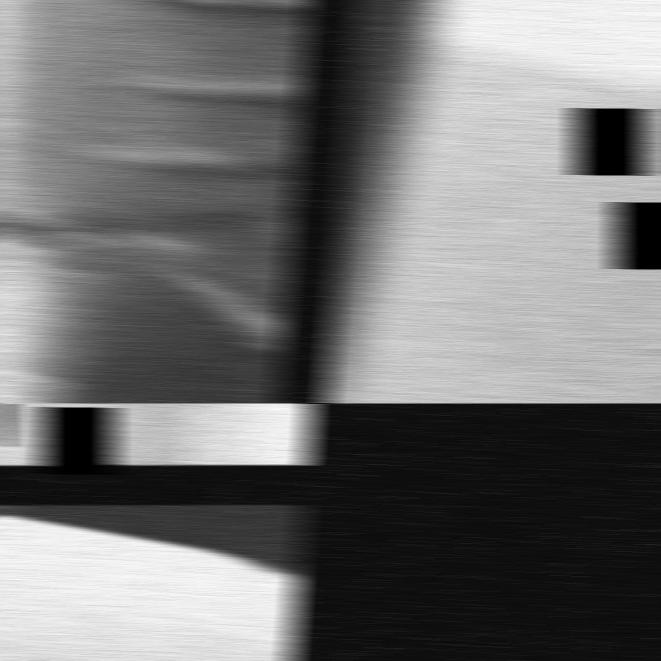Airbag: (320, 0, 661, 403), (0, 0, 315, 403), (0, 520, 301, 661)
